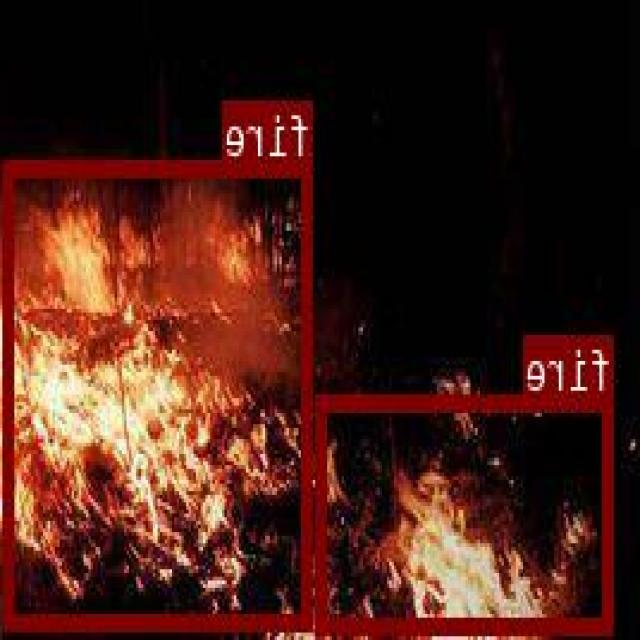fire: (5, 157, 314, 625), (319, 394, 615, 632)
